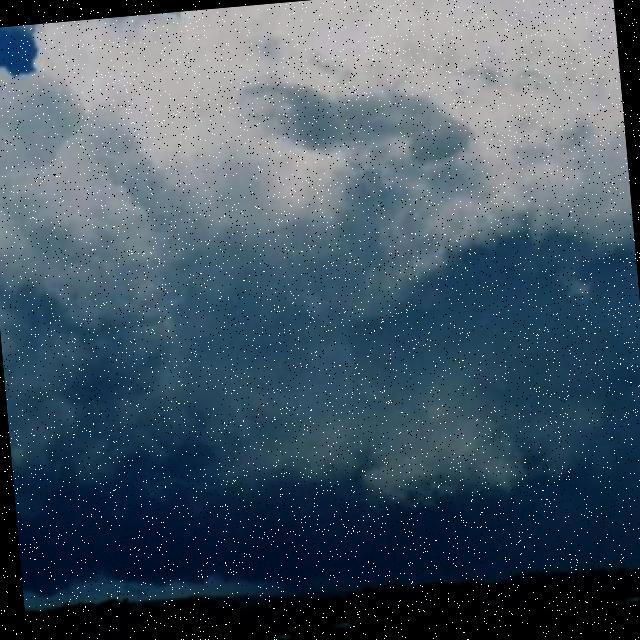Cb: (1, 13, 640, 507)
